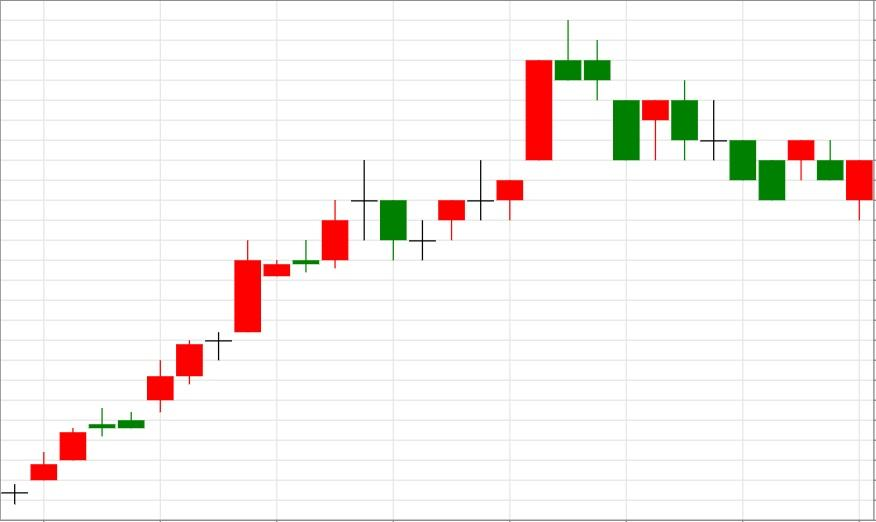shooting_star_fall: (379, 19, 582, 259)
